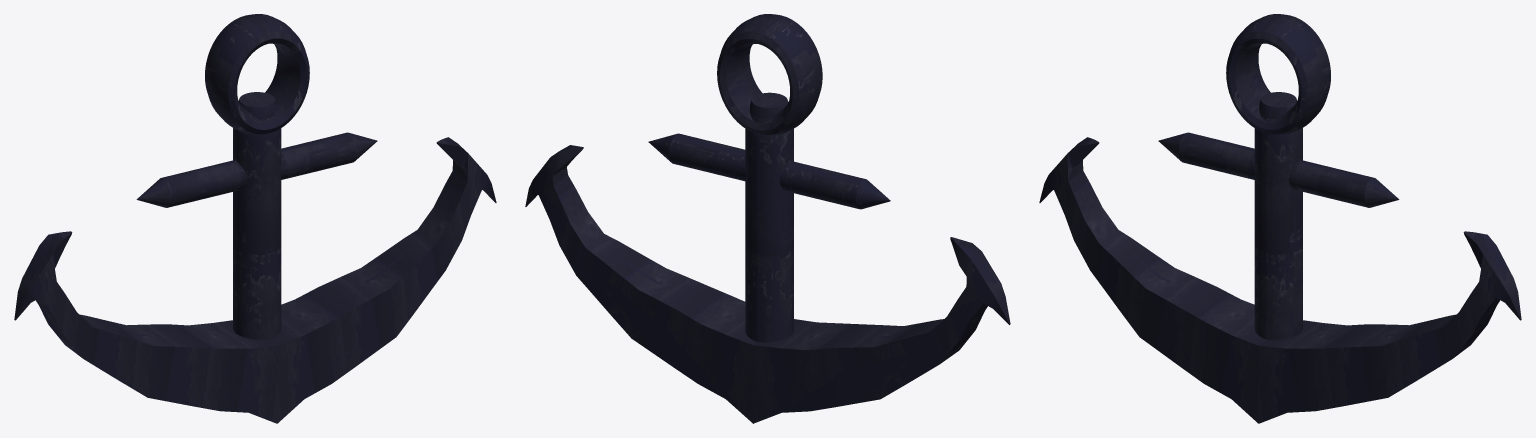
Rendered from anchor.obj.
The picture shows the model from 3 angles, left to right: view 1: azimuth 30°, elevation 25°; view 2: azimuth 150°, elevation 25°; view 3: azimuth 330°, elevation 25°; orthographic projection.
Parts seen in each view (by area): view 1: 平面; view 2: 平面; view 3: 平面.
Part boxes in pixels (x1=…): 平面: x1=14, y1=14, x2=496, y2=423; 平面: x1=525, y1=14, x2=1010, y2=423; 平面: x1=1039, y1=14, x2=1521, y2=423.
Size of the model in its own units: 11.66 by 9.04 by 1.53.
1 material, 1 textured.
